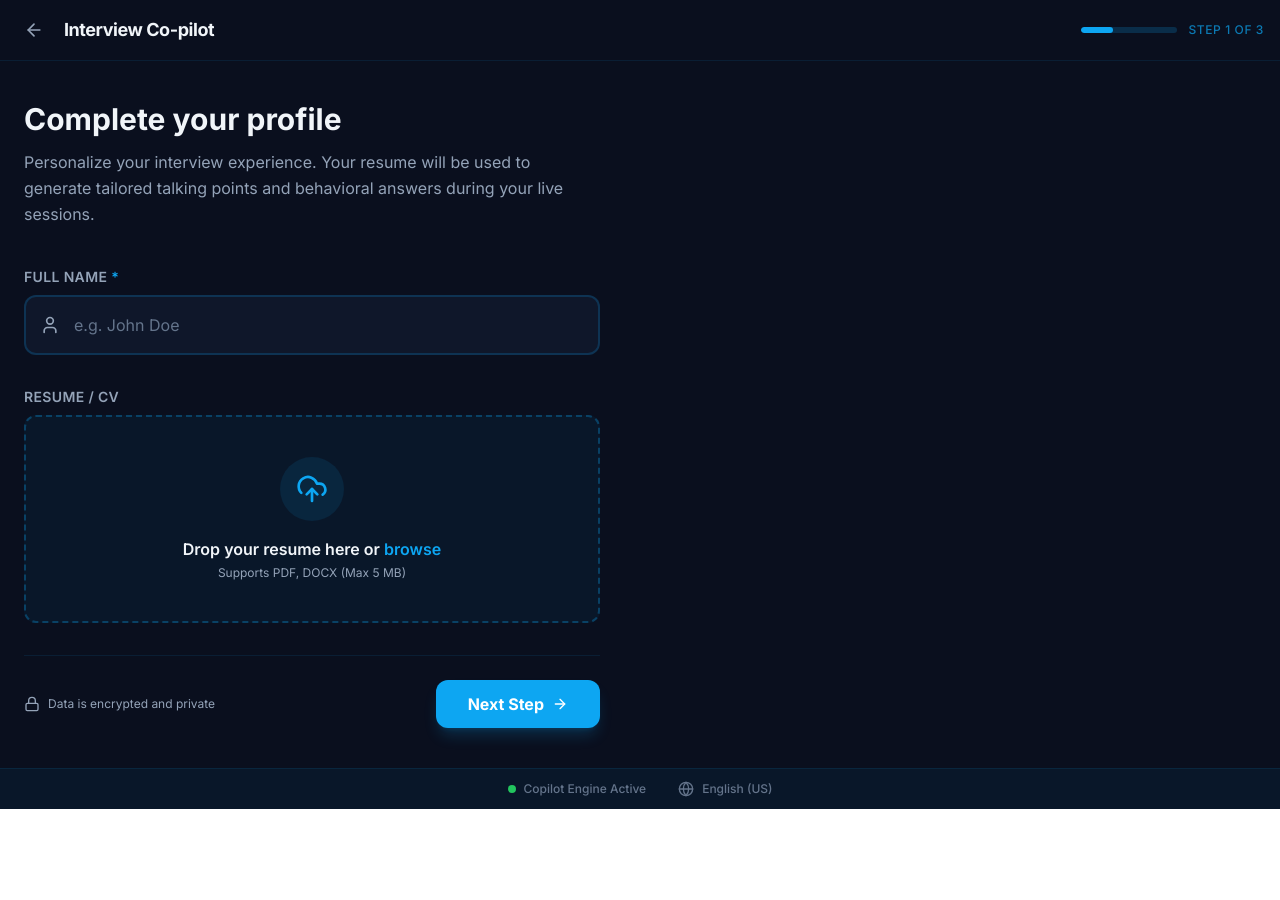
OnboardingScreen › clears the validation error once the user starts typing
Click the button "Next Step" at (518, 704), box [436,680,600,728]
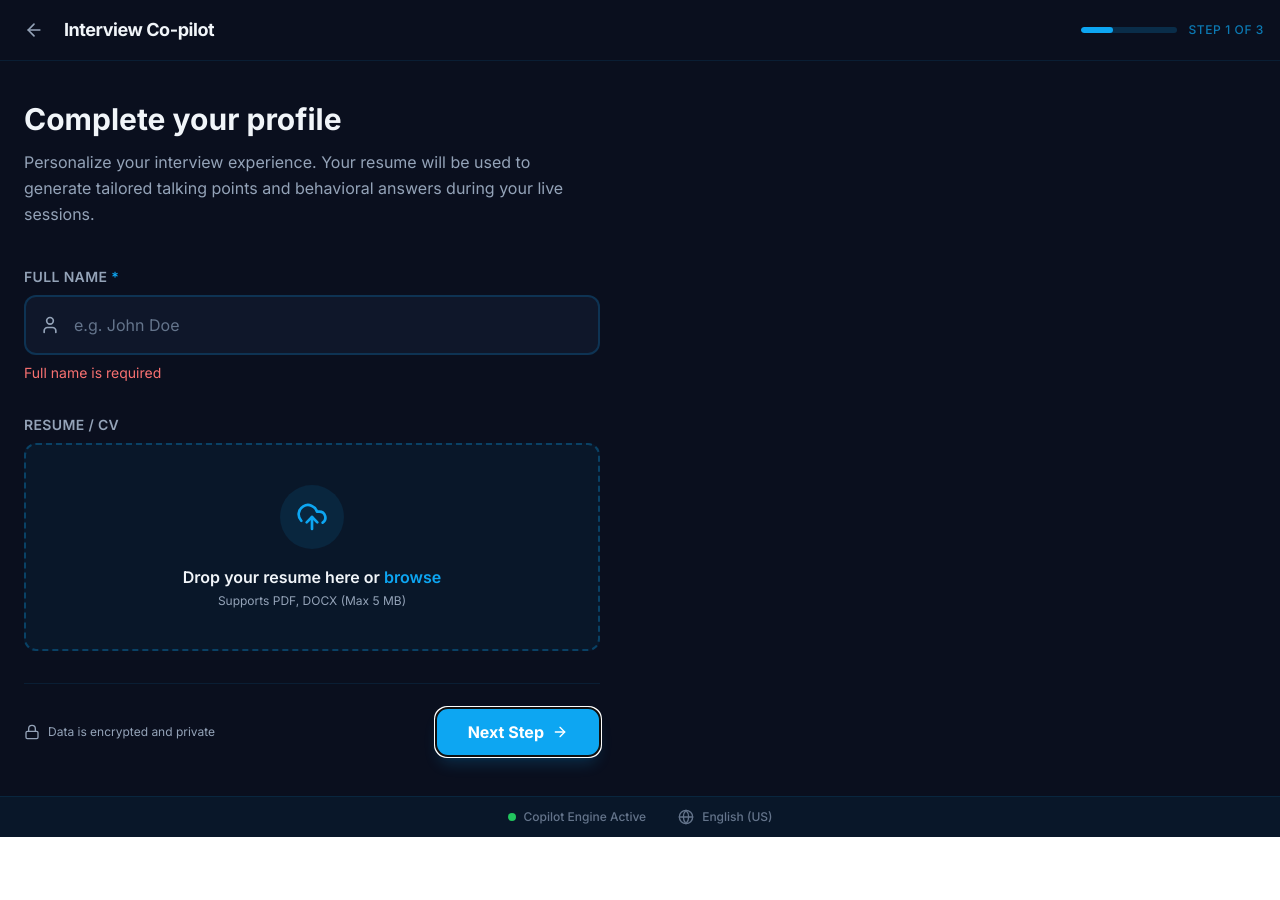
Expected: the message "Full name is required" is shown, [24,364,161,381]
Type "A" into the field labelled "Full Name *" at (312, 325), box [24,295,600,355]
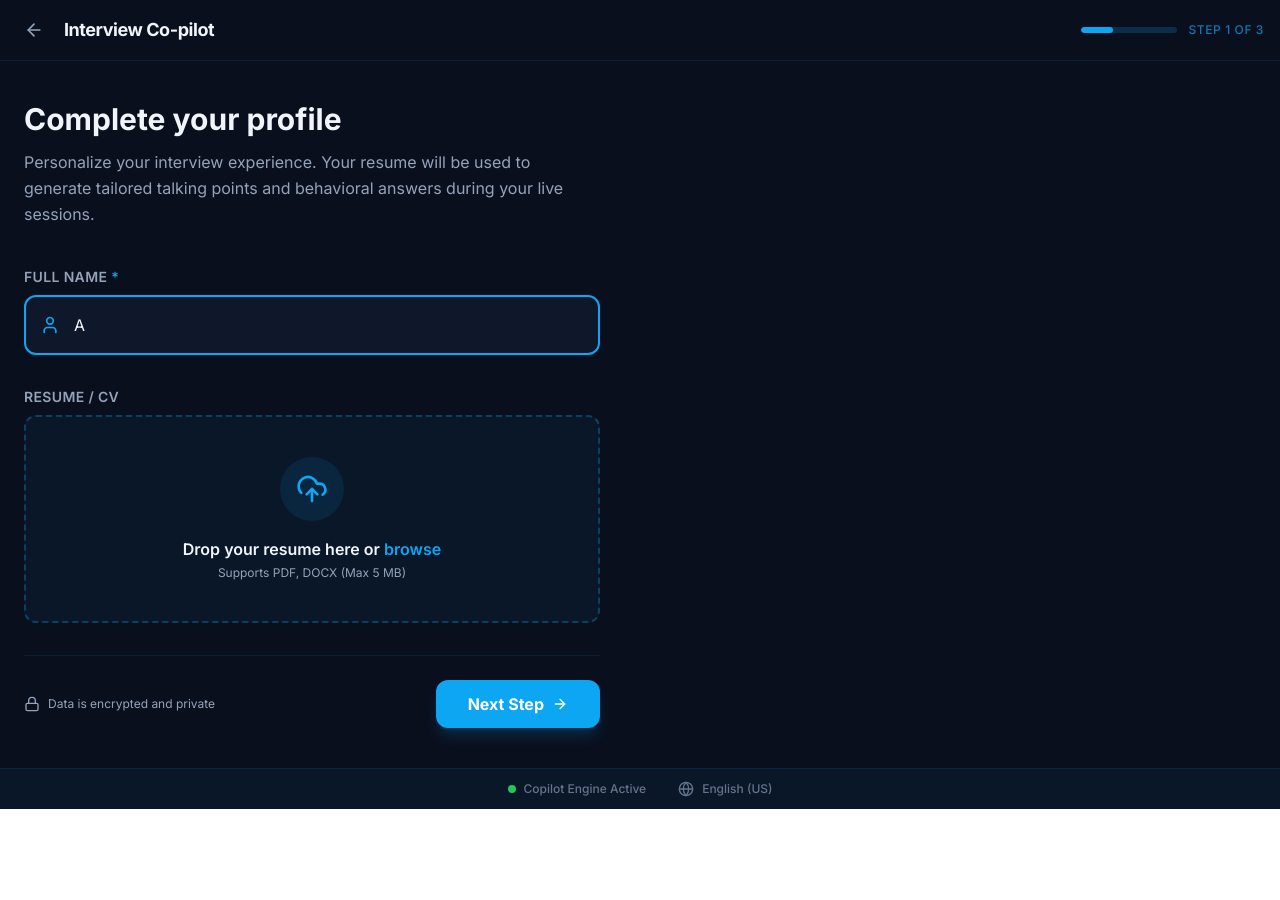
Expected: the message "Full name is required" is gone
